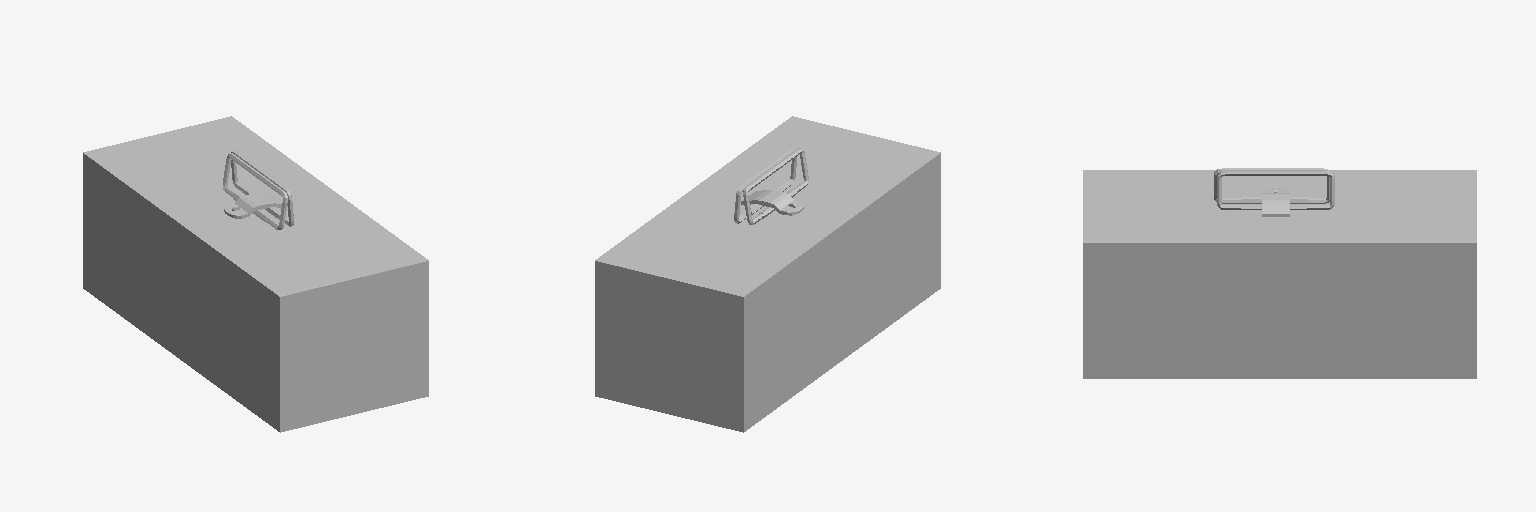
Rendered from scene Tool box close.obj.
3 views of the same model, side by side, from view 1: azimuth 30°, elevation 25°; view 2: azimuth 150°, elevation 25°; view 3: azimuth 270°, elevation 25° (orthographic).
Parts seen in each view (by area): view 1: Tool_box_close_lod1, Tool_box_close_low; view 2: Tool_box_close_lod1, Tool_box_close_low; view 3: Tool_box_close_lod1, Tool_box_close_low.
Boxes of the visible parts, box(x1,y1,x2,y2) form: Tool_box_close_lod1: box(83, 116, 428, 432); Tool_box_close_low: box(223, 151, 293, 229); Tool_box_close_lod1: box(595, 116, 940, 432); Tool_box_close_low: box(734, 148, 808, 224); Tool_box_close_lod1: box(1083, 169, 1476, 378); Tool_box_close_low: box(1214, 168, 1334, 209).
Size of the model in its own units: 22.21 by 24.55 by 50.92.